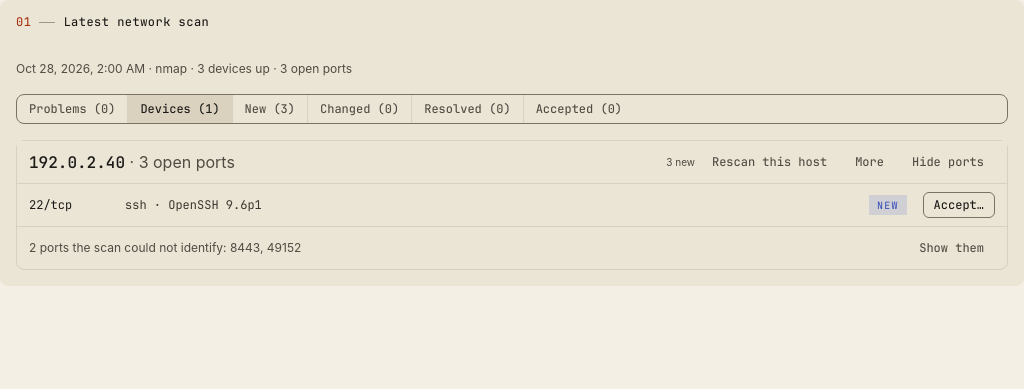
Test case: FindingsReport grouped problems › Advanced: ports the scan could not identify fold into one line, and can be shown
Check: the list item with test id "low-detail" shows "2 ports the scan could not identify: 8443, 49152", box [29,240,301,255]
Check: the list item "22/tcp ssh · OpenSSH 9.6p1 new Accept…" is shown, box [17,183,1007,226]
Click the button "Show them".
click(952, 248)  # box [908,235,995,261]
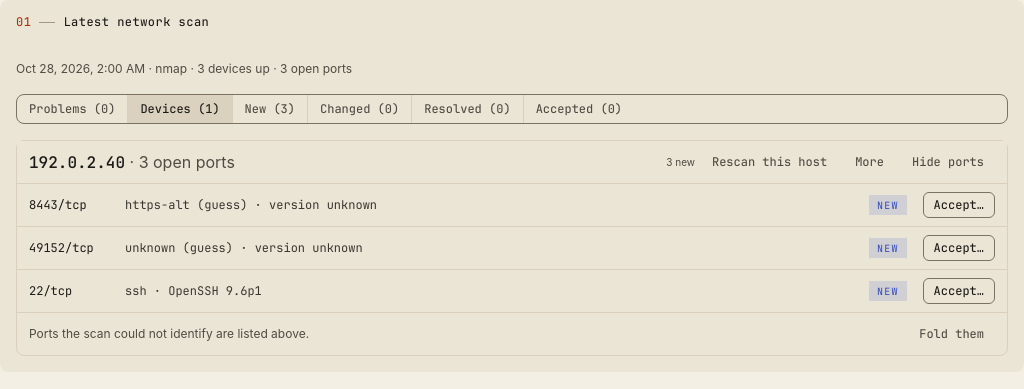
Check: the list item "8443/tcp https-alt (guess) · version unknown new Accept…" is shown, box [17,183,1007,226]
